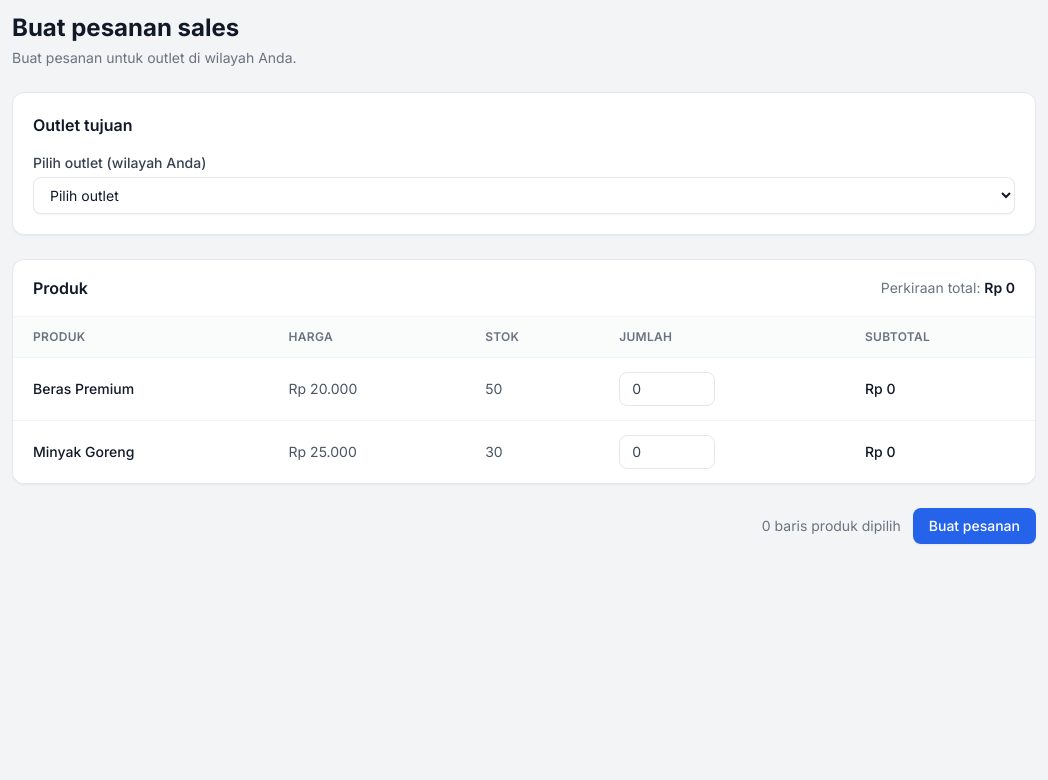
Test case: sales orders page › submits order via POST /sales/orders with selected outlet and quantities
Select "Warung Asri — Jakarta" in the dropdown labelled "Pilih outlet (wilayah Anda)". click: {"x": 524, "y": 196}
box: 33,177 -> 1015,214
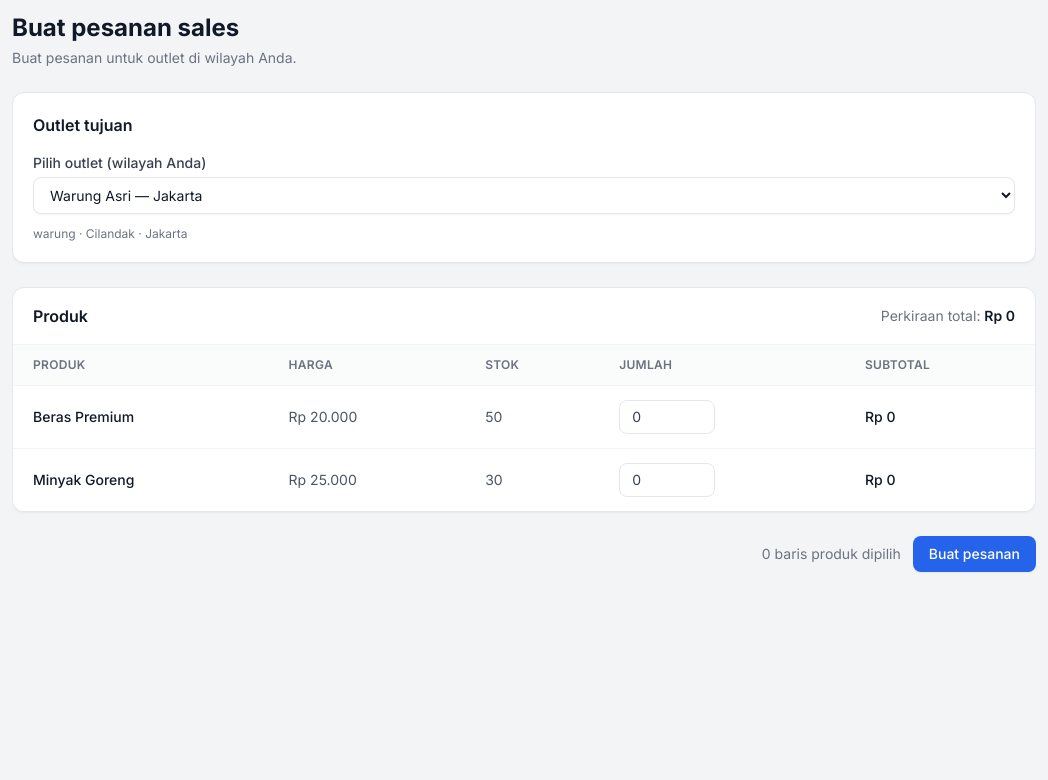
Replace the text in the number field named "Jumlah Beras Premium" with "2". click: {"x": 667, "y": 417}
box: 619,400 -> 715,434
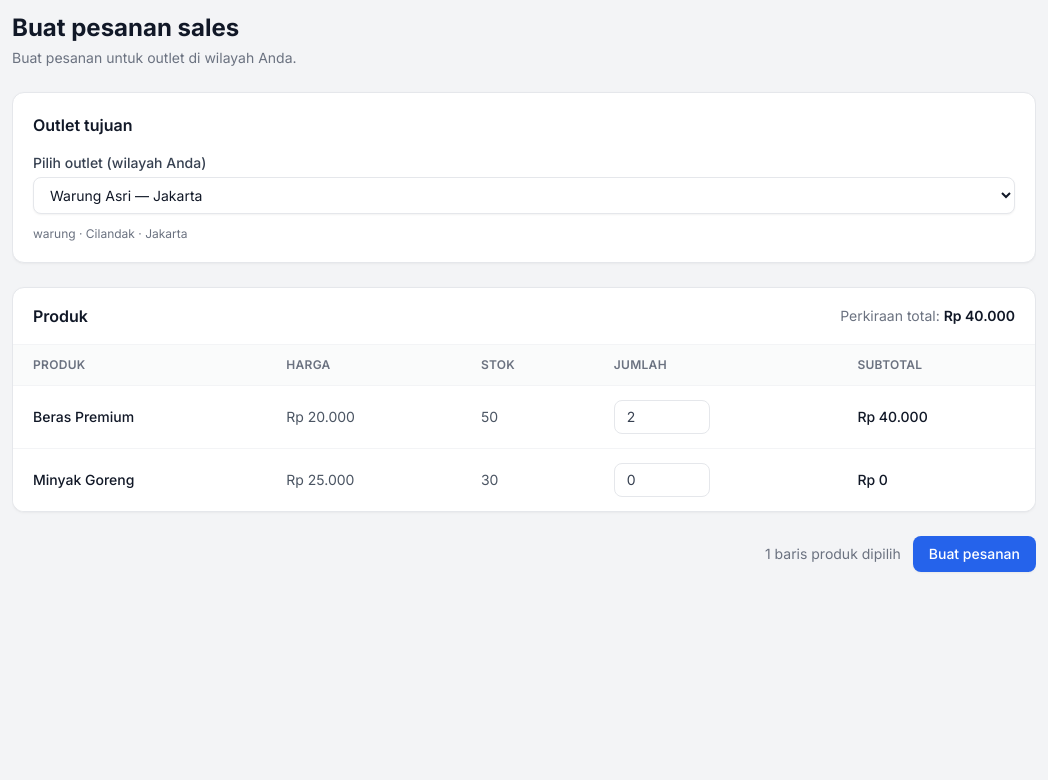
Click the button "Buat pesanan". click: {"x": 974, "y": 554}
box: 913,536 -> 1036,572
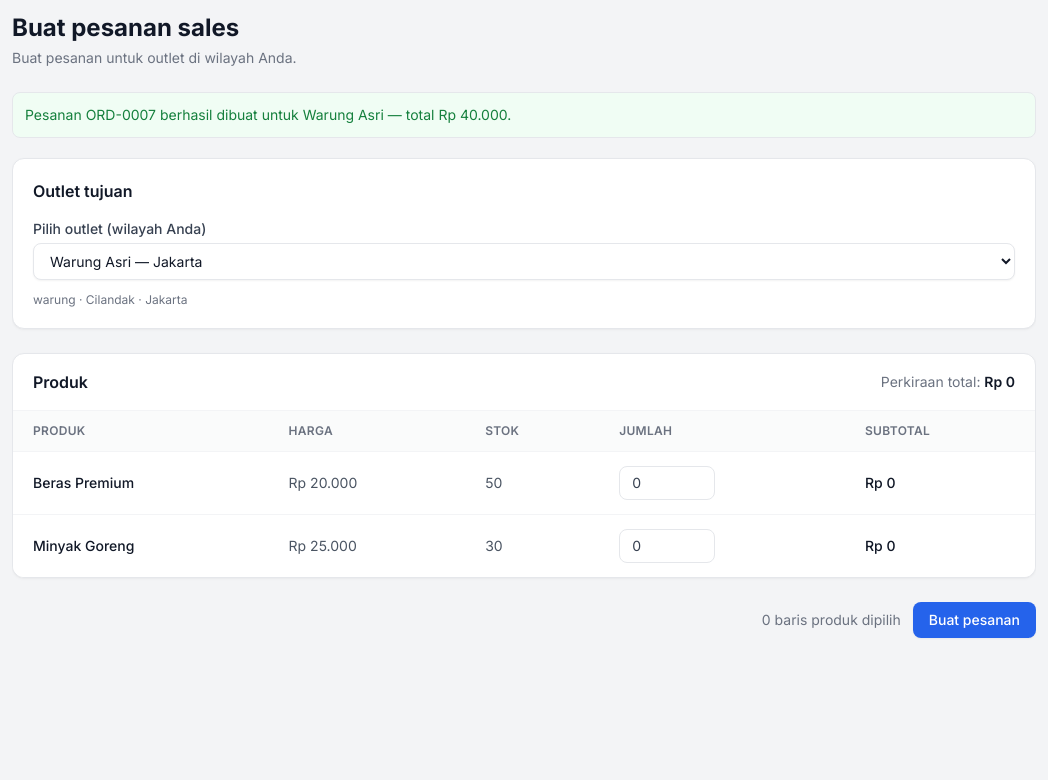
expect the text "Pesanan ORD-0007 berhasil dibuat untuk Warung Asri — total Rp 40.000." is shown: met, box 12,92 -> 1036,138
